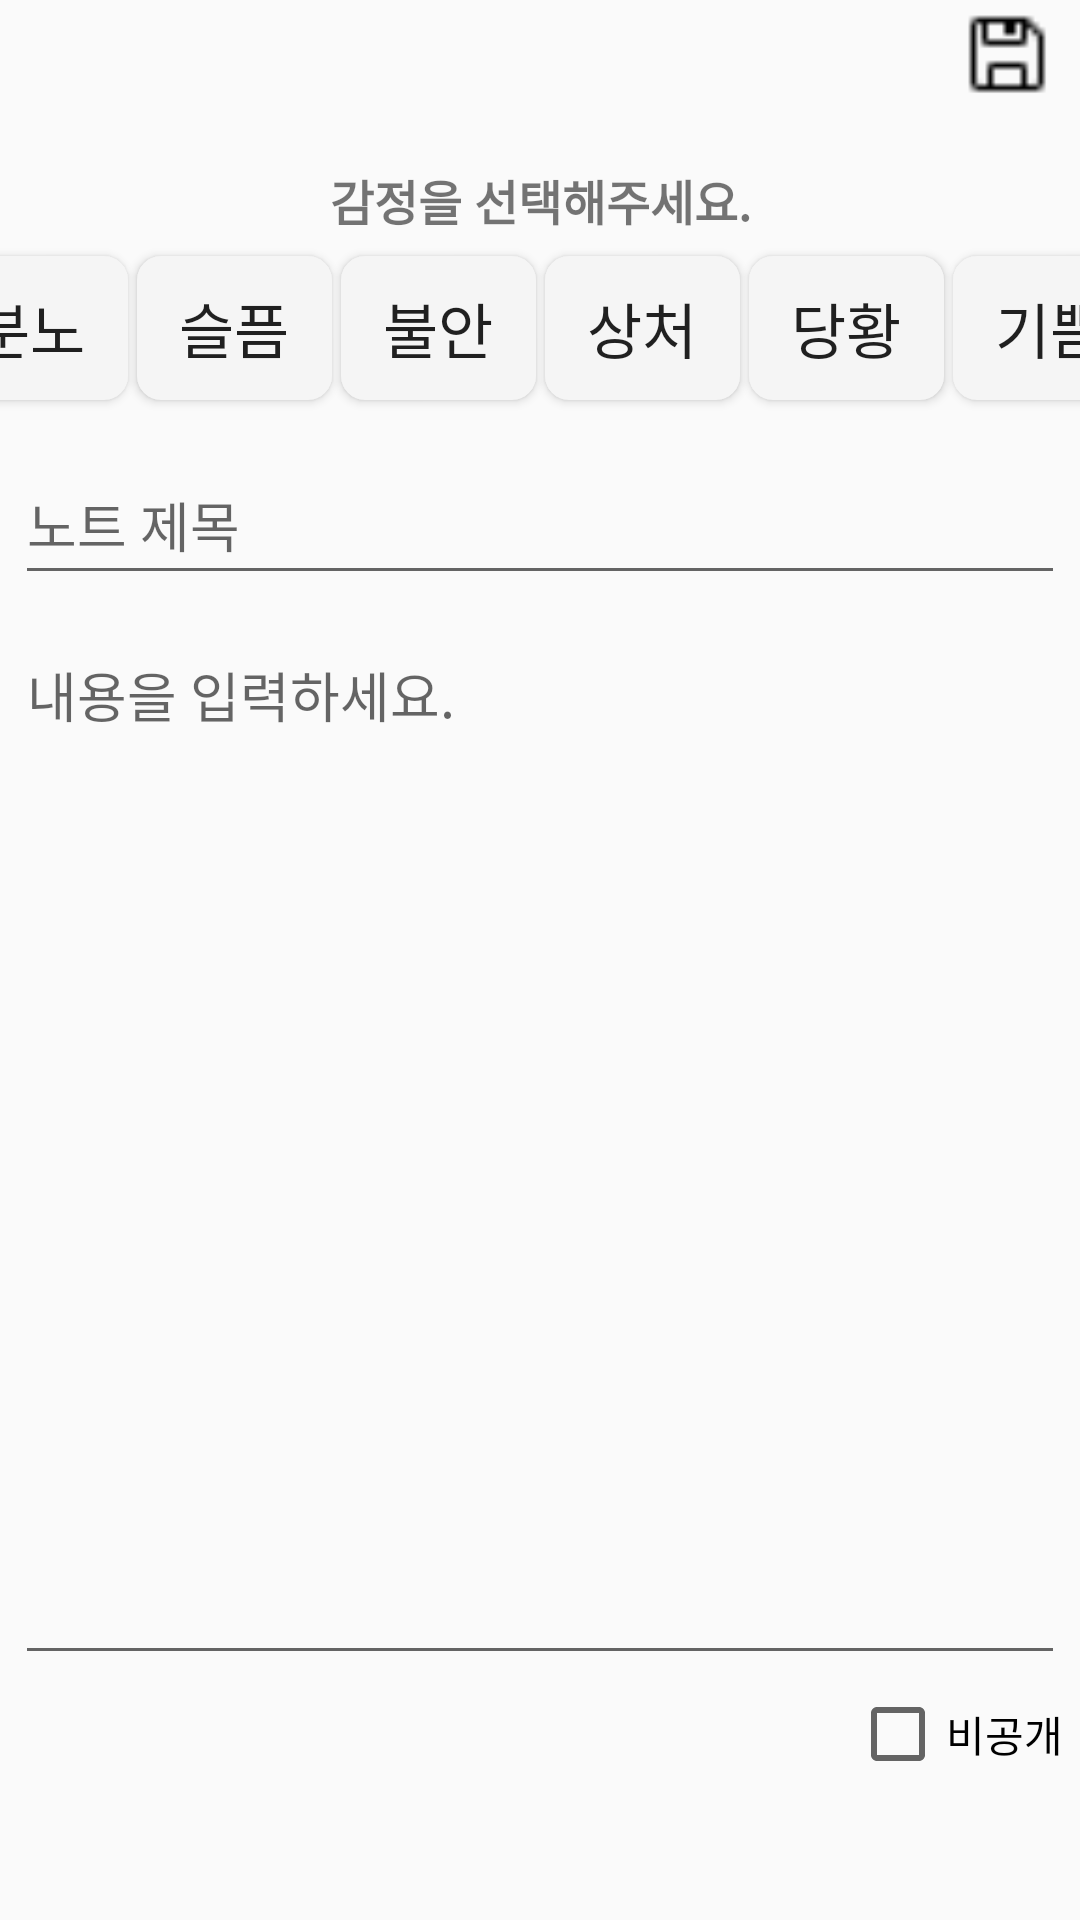

Icon click points for this 1080w x 1920h phone screenshot, format (x,y):
save: (1007,54)
